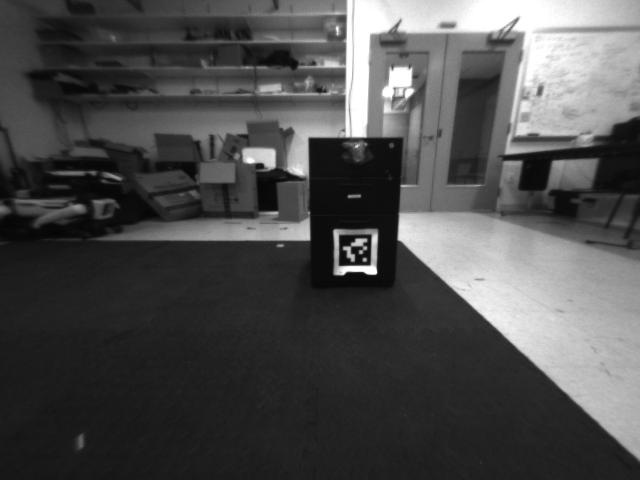door_handle: (418, 130, 436, 146)
drawer: (336, 137, 374, 168)
